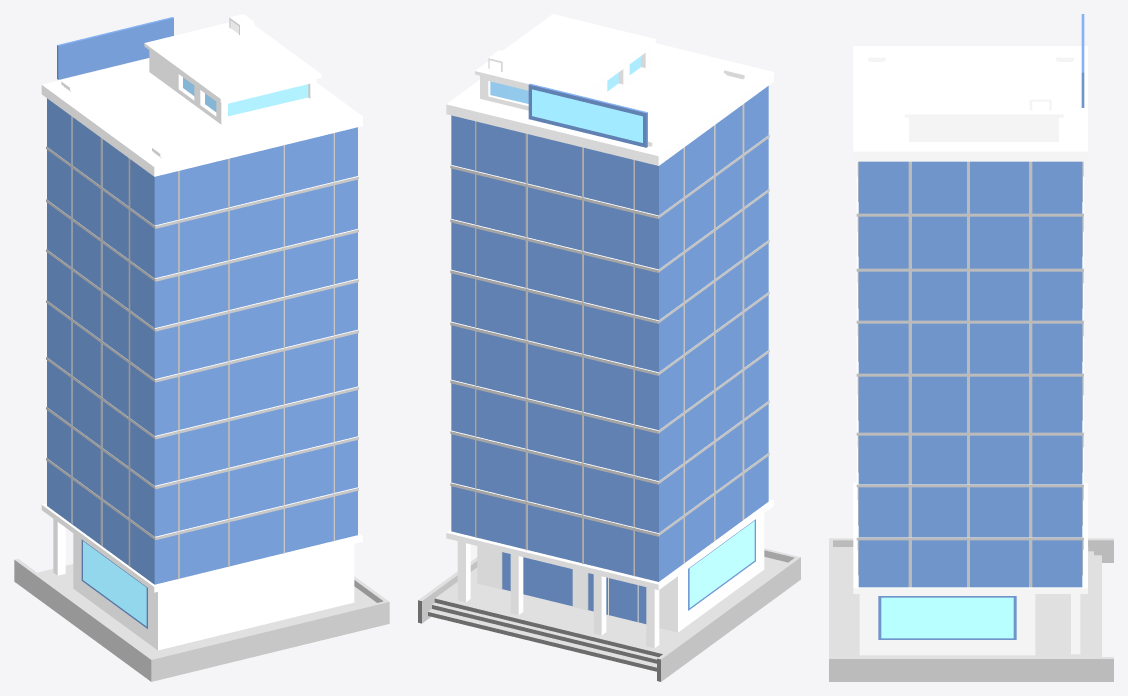
The model's file is business centers.003.glb.
3 views of the same model, side by side, from view 1: azimuth 30°, elevation 25°; view 2: azimuth 150°, elevation 25°; view 3: azimuth 270°, elevation 25° (orthographic). The views are drawn at different scales.
Visible parts, largest first — view 1: business centers.003(Clone); view 2: business centers.003(Clone); view 3: business centers.003(Clone).
Part boxes in pixels (left/top/right/bottom): business centers.003(Clone): left=14, top=14, right=389, bottom=681; business centers.003(Clone): left=418, top=14, right=800, bottom=681; business centers.003(Clone): left=829, top=14, right=1113, bottom=681.
Bounding box in the file's own units: 14.44 × 31.34 × 14.39.
Materials: 1 (1 with a texture image).
